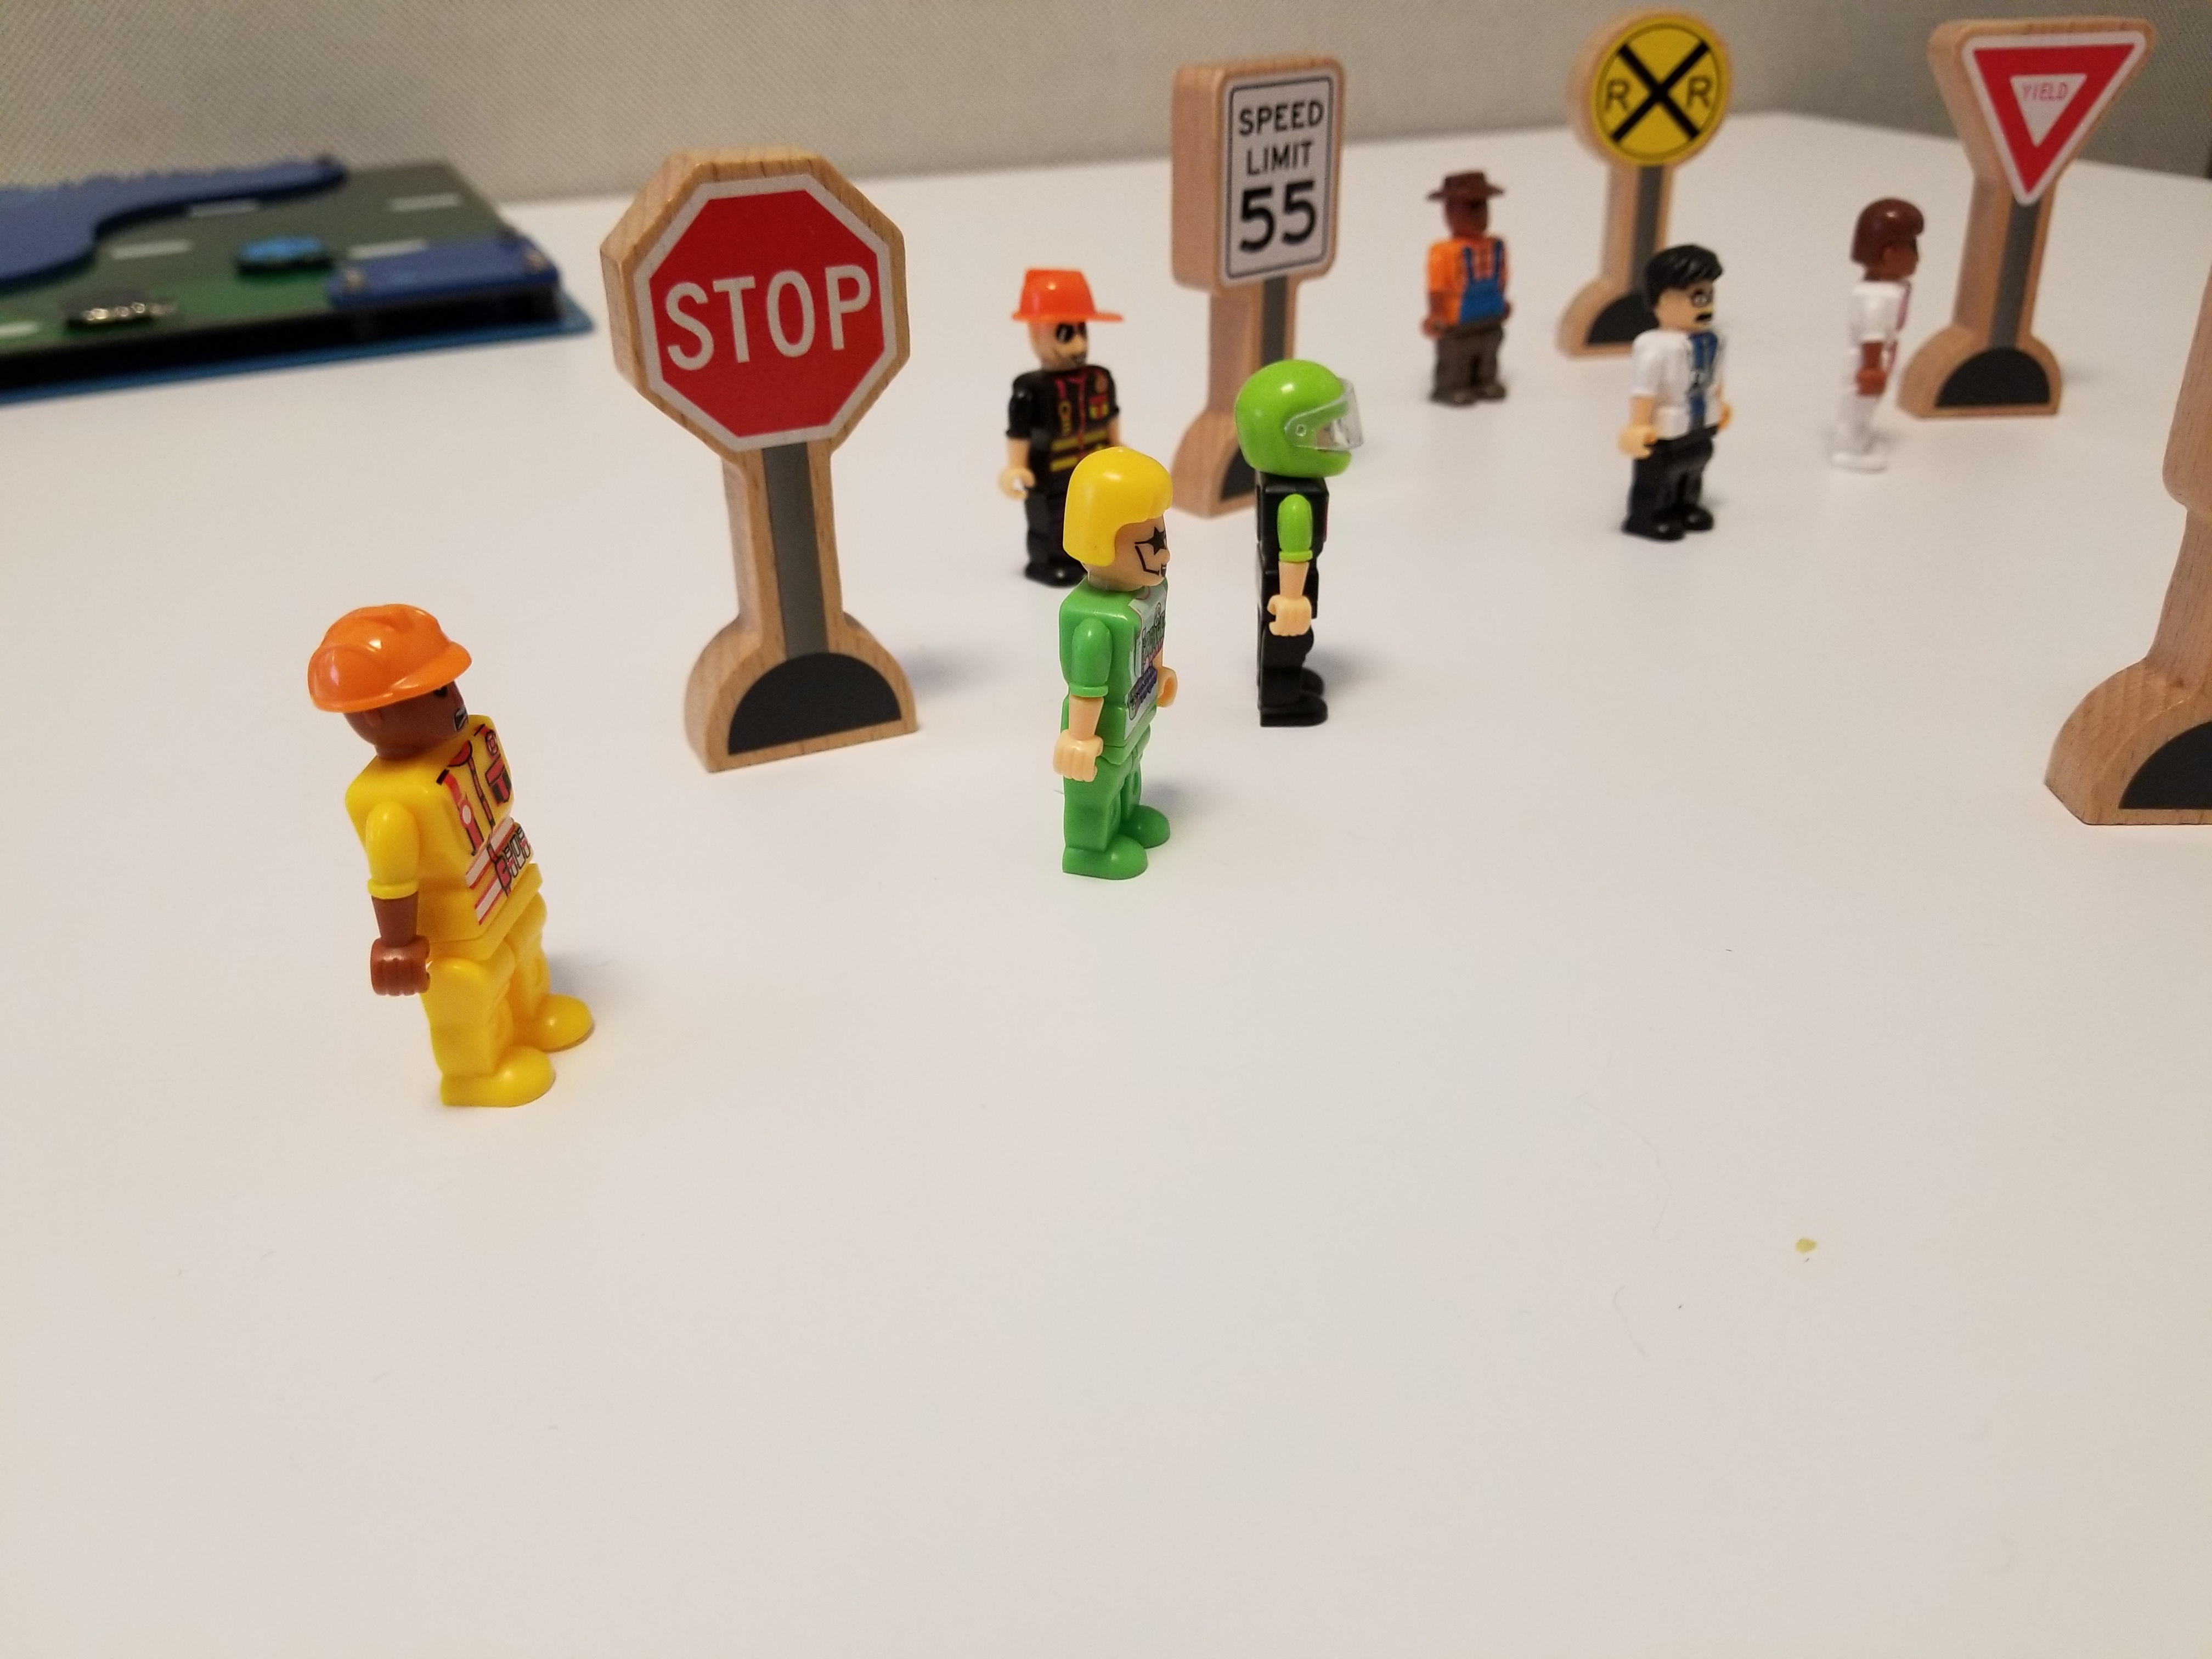Railroad Crossing: (1539, 5, 1768, 214)
Speed limit 55: (1169, 41, 1377, 315)
Stop: (585, 144, 947, 763)
Yield: (1919, 14, 2163, 262)
person: (258, 580, 618, 1140), (1030, 442, 1210, 921), (1226, 343, 1397, 782), (1621, 229, 1754, 556), (1384, 157, 1535, 418), (1814, 166, 1926, 484), (997, 253, 1131, 482)
